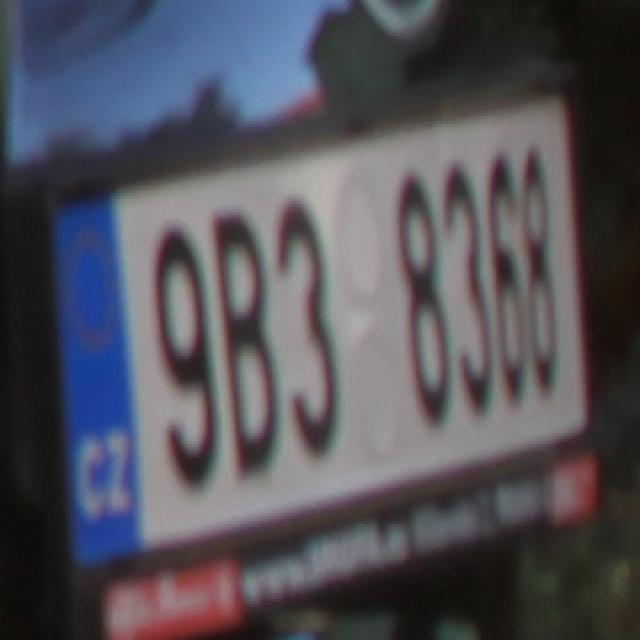3: (274, 196, 339, 461), (444, 168, 492, 420)
6: (487, 154, 526, 403)
8: (389, 171, 452, 436), (519, 143, 558, 394)
9: (149, 228, 217, 486)
B: (210, 207, 280, 477)
